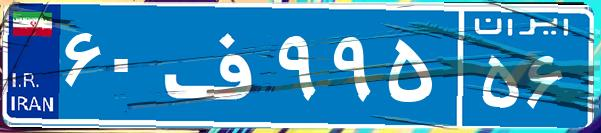0: (110, 28, 158, 105)
5: (385, 28, 445, 110), (475, 38, 525, 113)
6: (57, 26, 110, 107), (525, 38, 570, 115)
9: (273, 28, 330, 110), (330, 28, 385, 110)
ف: (158, 15, 273, 115)
